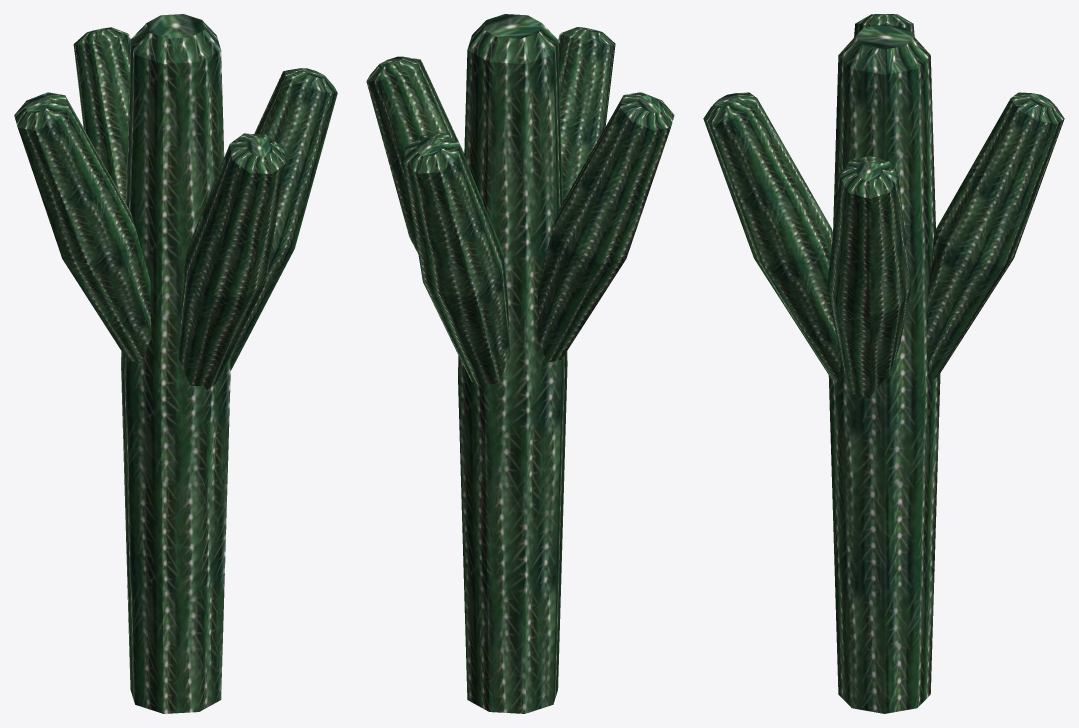
The model's file is cactus_8.fbx.
3 renders of one model, left to right at view 1: azimuth 30°, elevation 25°; view 2: azimuth 150°, elevation 25°; view 3: azimuth 270°, elevation 25°, orthographic.
Visible parts, largest first — view 1: Cylinder; view 2: Cylinder; view 3: Cylinder.
Boxes of the visible parts, <box> form: Cylinder: <box>14,14,337,713</box>; Cylinder: <box>366,14,674,713</box>; Cylinder: <box>703,14,1064,713</box>.
Bounding box in the file's own units: 306 × 632 × 315.
Materials: 1 (1 with a texture image).
